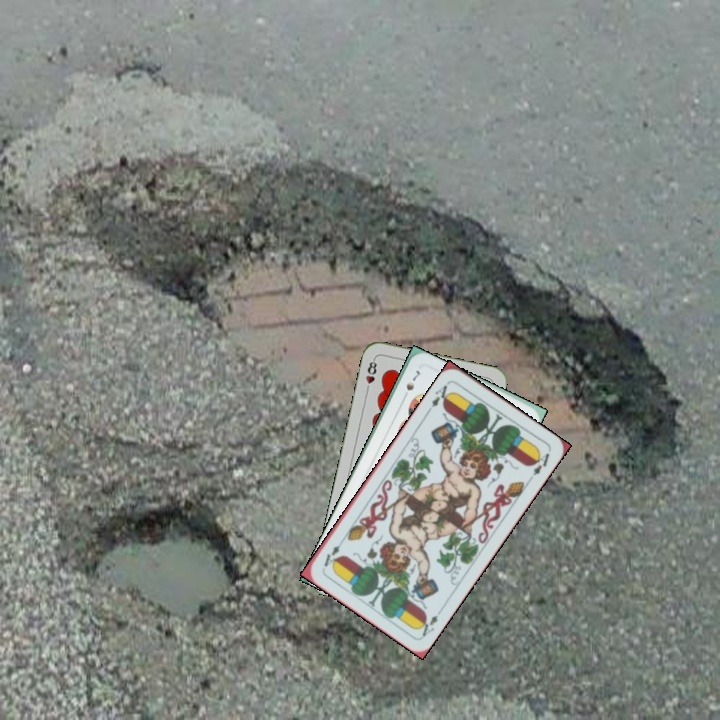EA: (414, 604, 445, 639), (427, 378, 455, 410)
H8: (362, 355, 380, 395)
S7: (399, 366, 423, 403)
